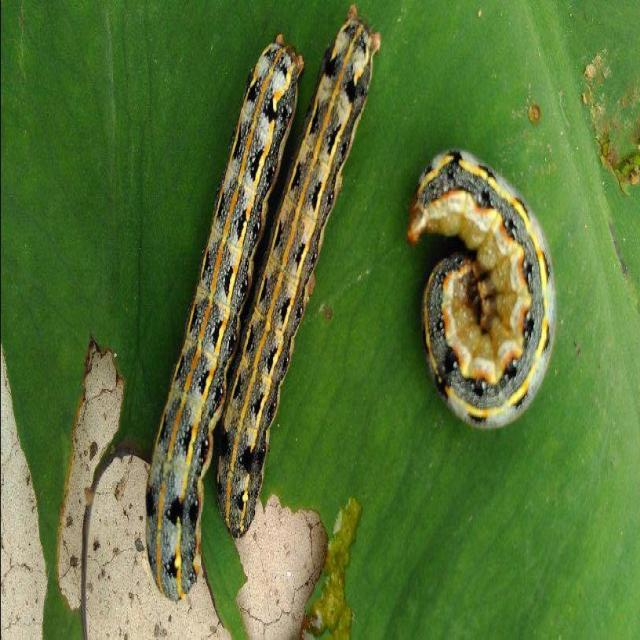army worm: (136, 30, 311, 614), (217, 15, 386, 574), (406, 142, 563, 435)
